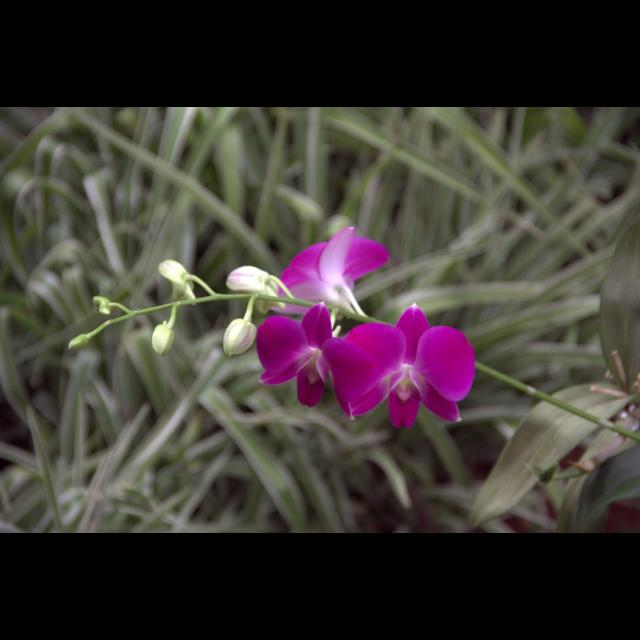Flower: (318, 302, 484, 426), (267, 226, 389, 314), (256, 300, 334, 410)
